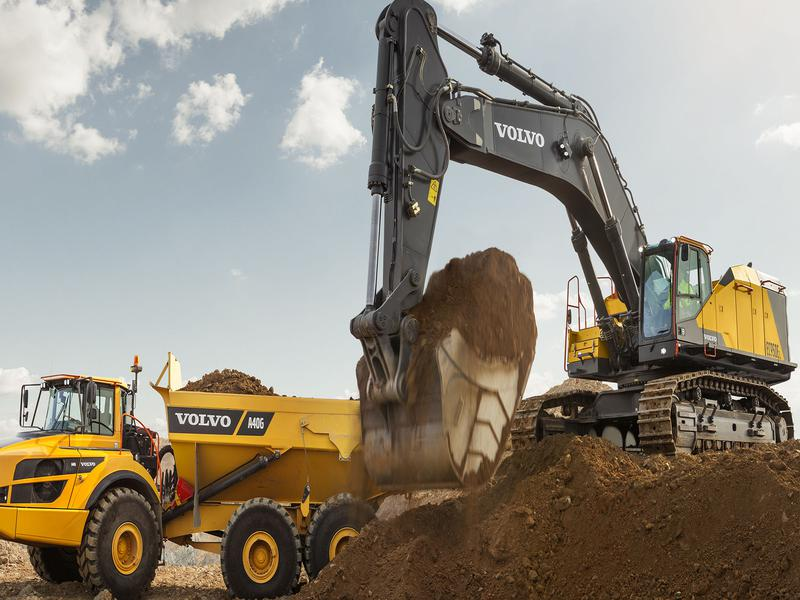shovel: (346, 1, 800, 494)
